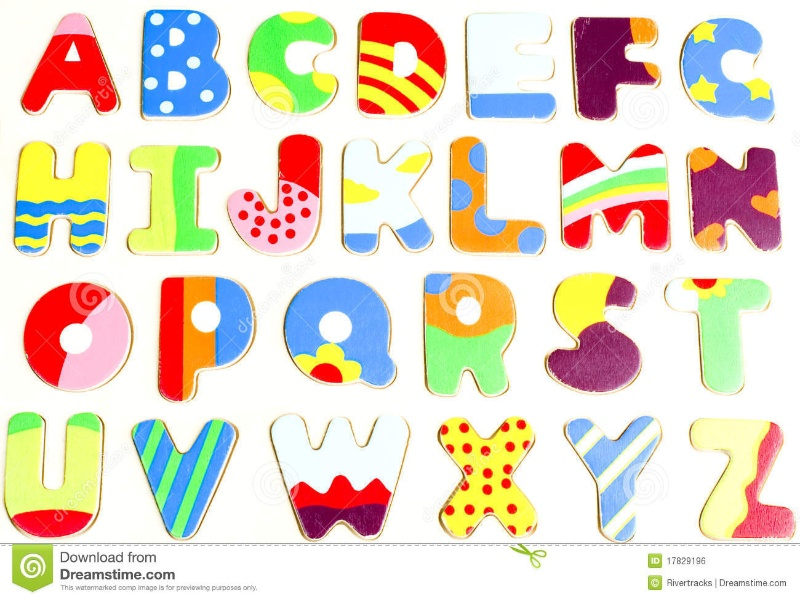letter: (262, 415, 413, 536), (553, 410, 670, 541), (128, 411, 247, 539), (416, 267, 520, 407), (686, 411, 797, 542), (152, 271, 264, 396), (13, 281, 136, 394), (663, 270, 772, 397), (280, 276, 400, 390), (444, 136, 550, 261), (428, 419, 542, 531), (542, 278, 653, 391), (8, 407, 103, 538), (560, 141, 672, 252), (11, 141, 115, 258), (674, 17, 775, 137), (132, 7, 237, 122), (682, 144, 791, 253), (129, 138, 221, 262), (240, 131, 324, 263), (466, 9, 563, 121), (338, 137, 433, 250), (354, 12, 453, 120), (575, 11, 665, 128), (22, 21, 125, 122), (250, 11, 342, 117)
